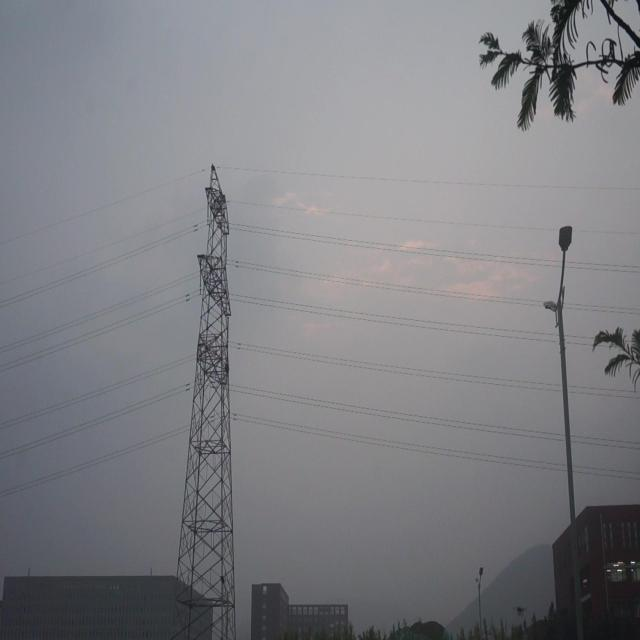drone: (512, 600, 526, 620)
